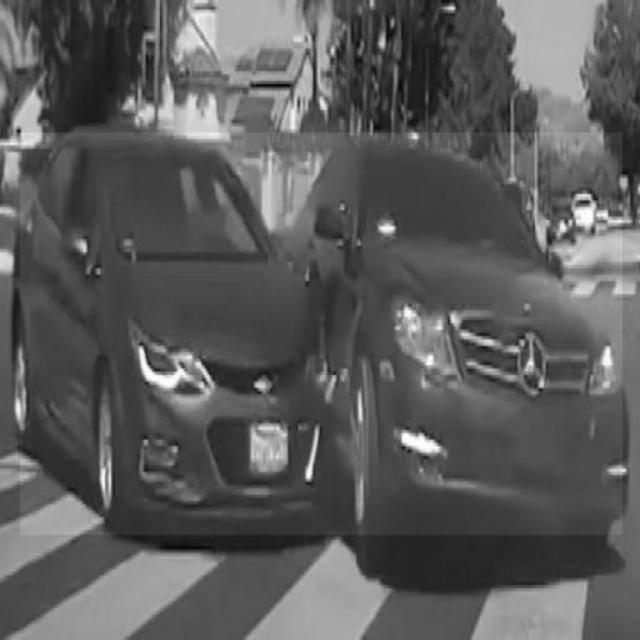accident: (20, 132, 624, 534)
